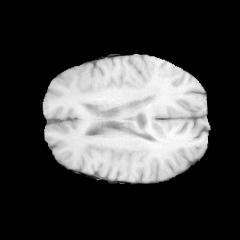glioma: (112, 83, 175, 139)
